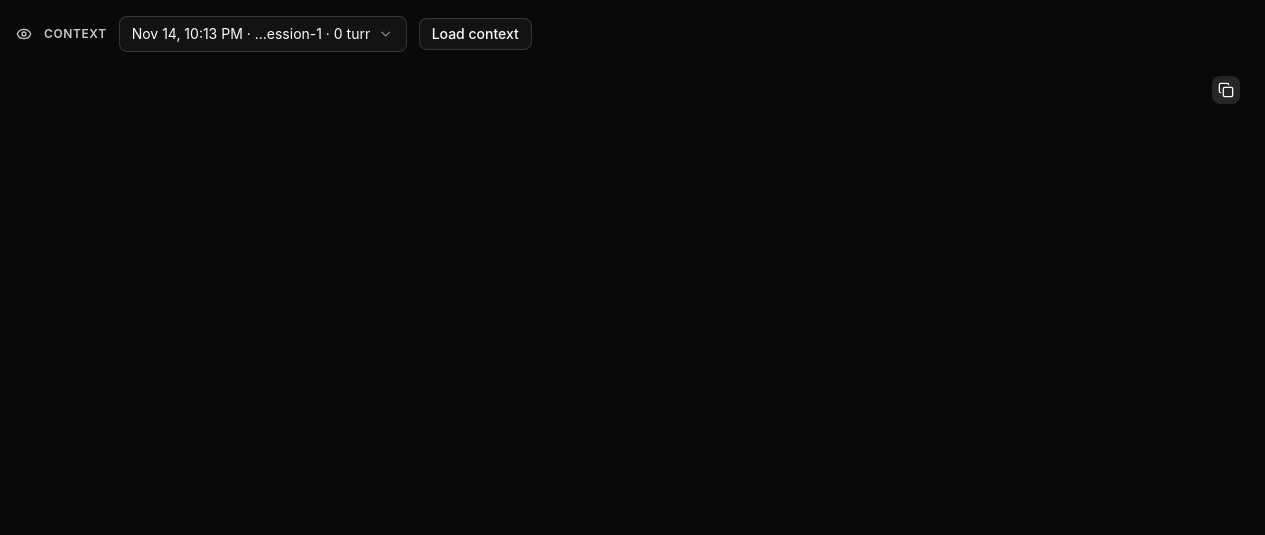
AgentContextView › loads context for the selected session via v/ops/agent/context on click
Click the button with test id "load-context-button" at (475, 34), box [419,18,532,50]
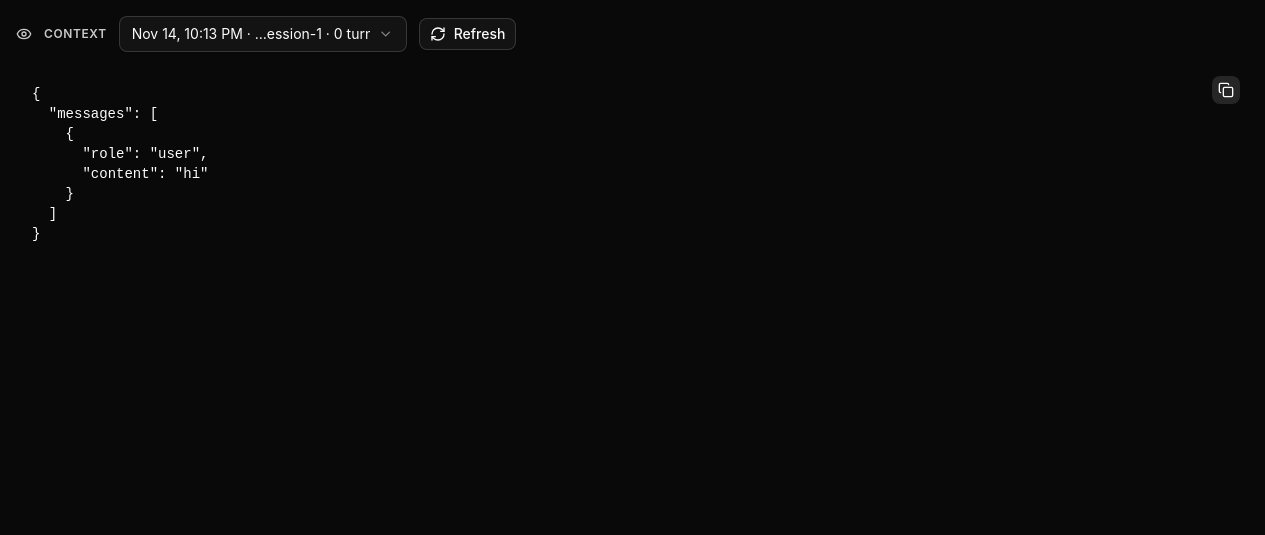
expect the text box "\"role\": \"user\"" is shown: met
